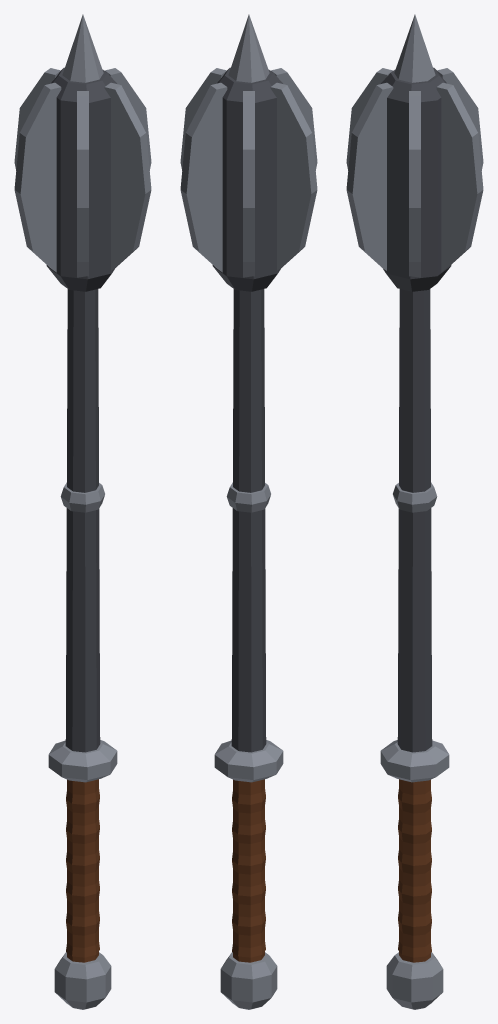
The model's file is W2S_Mace.fbx.
3 views of the same model, side by side, from view 1: azimuth 30°, elevation 25°; view 2: azimuth 210°, elevation 25°; view 3: azimuth 330°, elevation 25° (orthographic).
Parts seen in each view (by area): view 1: W2S_Mace; view 2: W2S_Mace; view 3: W2S_Mace.
Part boxes in pixels (bbox=[...]): W2S_Mace: bbox=[14, 14, 151, 1009]; W2S_Mace: bbox=[180, 14, 317, 1009]; W2S_Mace: bbox=[346, 14, 483, 1009].
Size of the model in its own units: 14.8 by 108 by 13.42.
